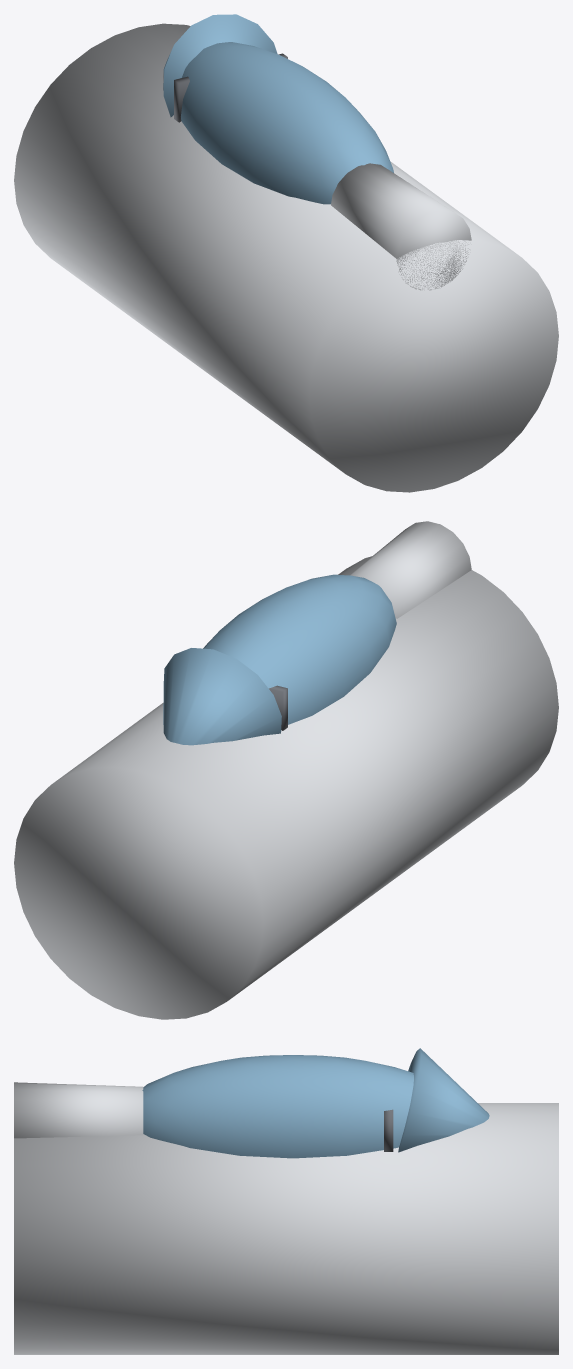
Rendered from mig21_cockpit.glb.
The picture shows the model from 3 angles, top to bottom: view 1: azimuth 30°, elevation 25°; view 2: azimuth 150°, elevation 25°; view 3: azimuth 270°, elevation 25°; orthographic projection. The views are drawn at different scales.
Visible parts, largest first — view 1: mig21_cockpit; view 2: mig21_cockpit; view 3: mig21_cockpit.
Part boxes in pixels (box(x1,y1,x2,y2)): mig21_cockpit: box(14, 14, 558, 492); mig21_cockpit: box(14, 521, 558, 1019); mig21_cockpit: box(14, 1048, 558, 1354).
Bounding box in the file's own units: 0.78 × 0.933 × 1.6.
